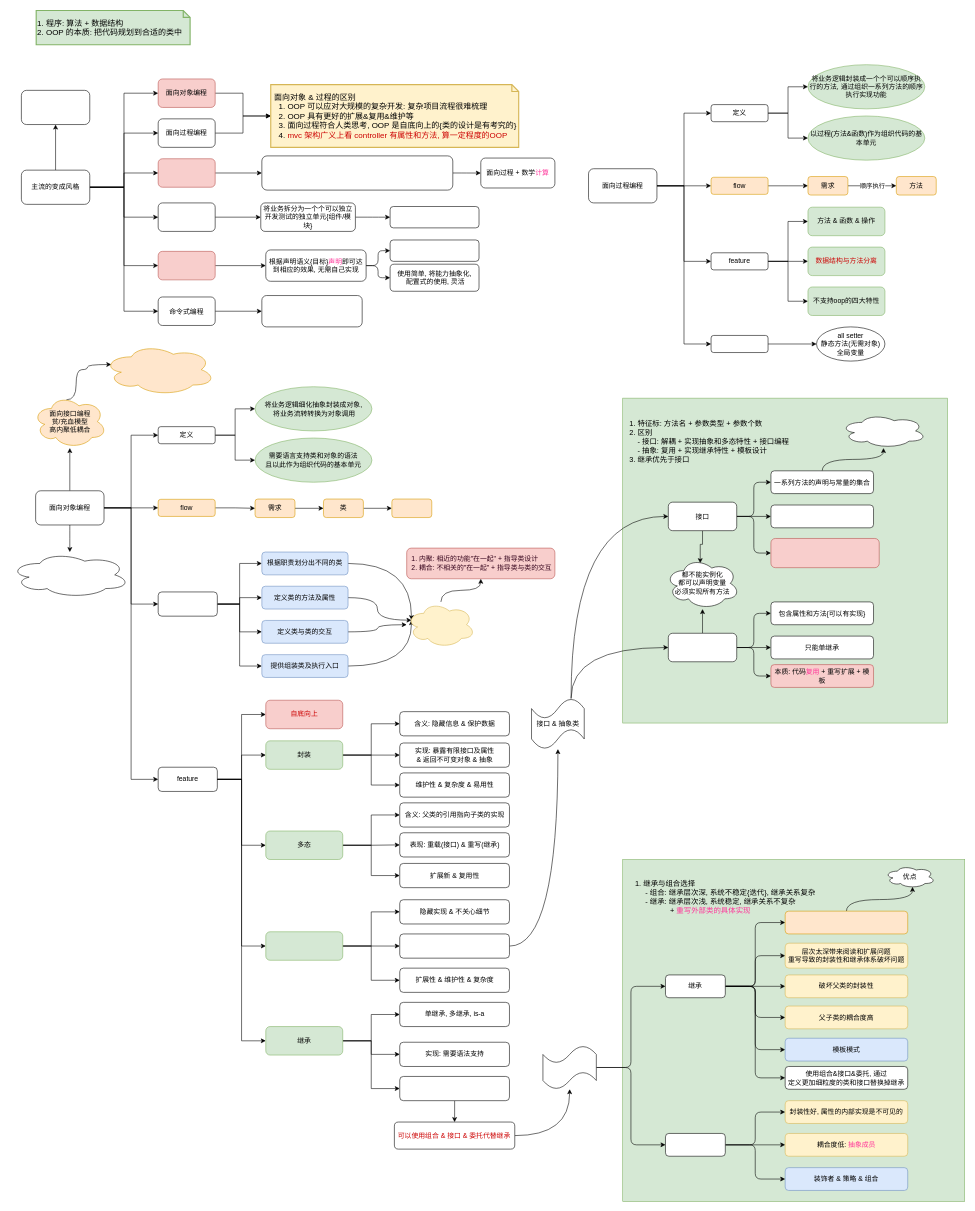
This 975x1211 diagram has some shape labels left out. Here are the shapes that lost their labels. From the top down, the centre of each, then its label:
the point at 55,107: 写出高质量代码
the point at 186,172: 函数式编程
the point at 357,172: 定义函数, 将逻辑封装转换为一个个功能函数{A->B的一个映射}, 并解除相关高阶函数将业务流转转换为函数间的调用
the point at 186,216: 组件化编程
the point at 434,217: 组件是具体的可复用 的通用抽象, 多用于前端
the point at 186,265: 声明式编程
the point at 434,250: 声明式事务 声明延迟消费
the point at 311,311: 一步步 定义实现
the point at 739,344: 表现
the point at 159,369: DDD 的service 负责dao, 跨domain 的聚合, 幂等事务等非功能性的工作
the point at 883,430: 没有实现, 没有属性
the point at 411,508: 方法 & 属性
the point at 822,516: 接口间可以 多继承
the point at 824,553: 本质: 一组协议或约定, 给使用者提供一份功能列表{ 封装变化 } + 解耦
the point at 69,574: 很多设计原则和模式的基础
the point at 187,603: 实现步骤
the point at 440,624: 原则 高内聚低耦合
the point at 702,647: 抽象类{is-a}
the point at 846,922: 代码复用 + 模板定义 + is-a + 重写多态 + 简单
the point at 304,945: 抽象
the point at 454,945: 实现: 接口{has-a} & 抽象
the point at 569,1067: 继承 & 组合
the point at 454,1088: 复用性 & 扩展性 & 深层次代价
the point at 695,1144: 组合
